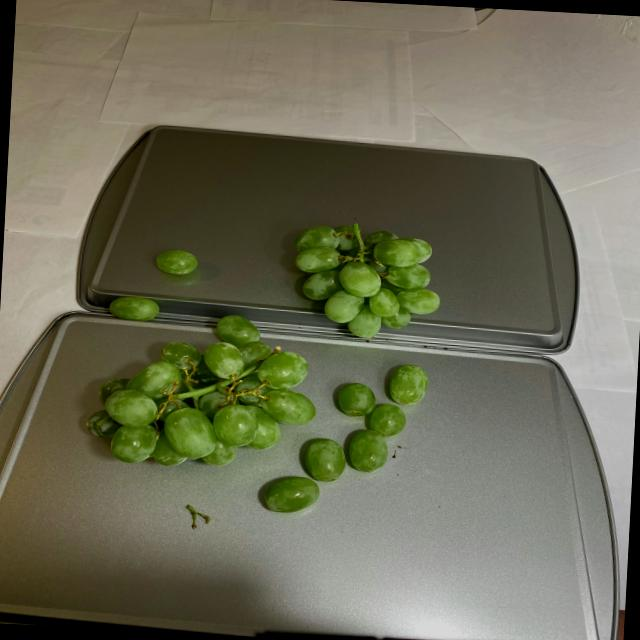grapes: (79, 213, 443, 520)
